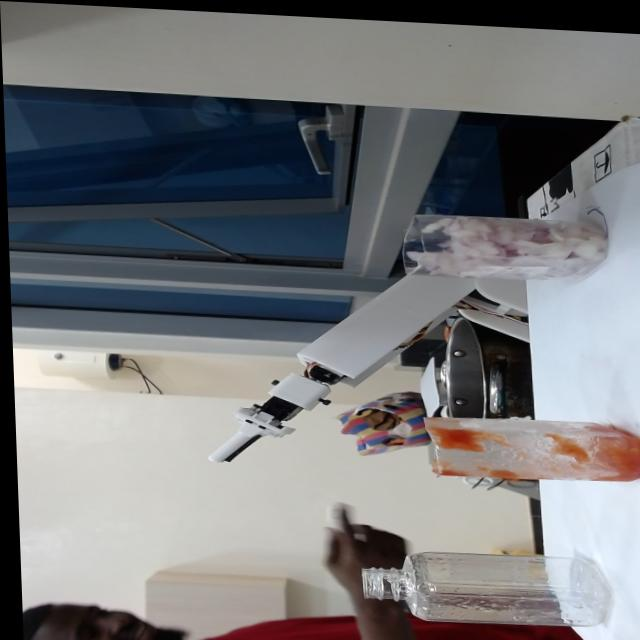blended_tomatoes_pepper: (433, 410, 640, 480)
cooking_pot: (431, 313, 530, 415)
sliced_onions: (414, 205, 607, 277)
